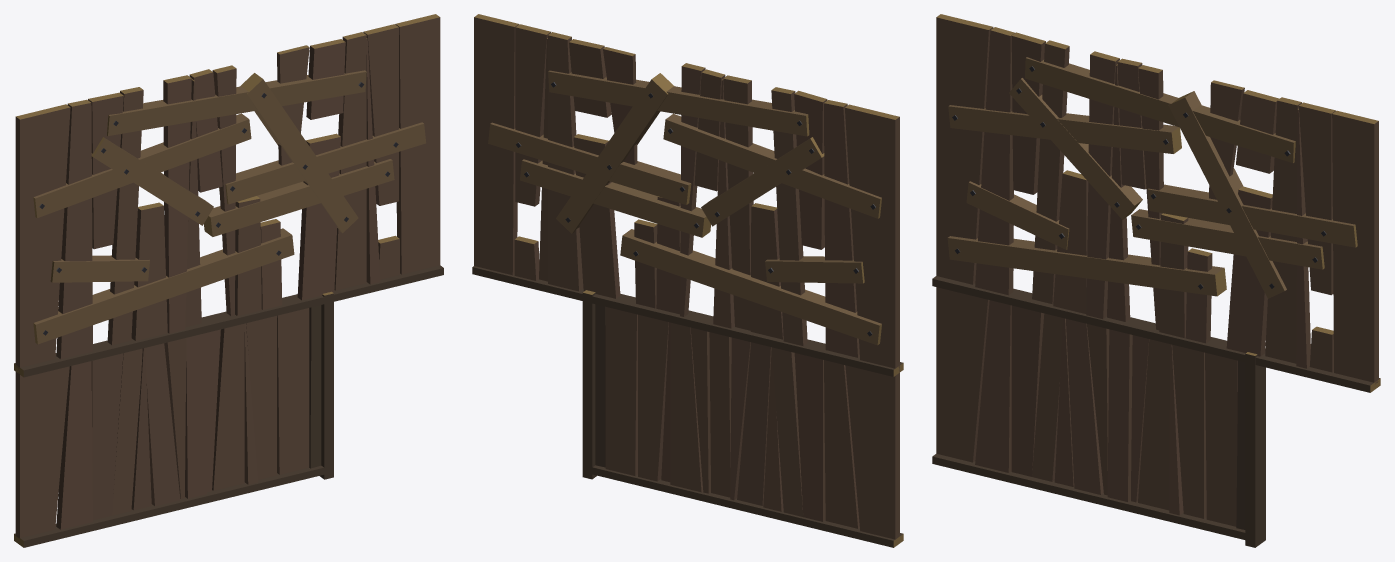
Rendered from Wall_2E_Door_6m.fbx.
3 views of the same model, side by side, from view 1: azimuth 30°, elevation 25°; view 2: azimuth 150°, elevation 25°; view 3: azimuth 330°, elevation 25° (orthographic). The views are drawn at different scales.
Visible parts, largest first — view 1: pCube2425; view 2: pCube2425; view 3: pCube2425.
Part boxes in pixels (box(x1,y1,x2,y2)): pCube2425: box(14, 14, 443, 547); pCube2425: box(472, 14, 903, 547); pCube2425: box(932, 14, 1380, 547).
Bounding box in the file's own units: 600 × 588 × 27.44.
